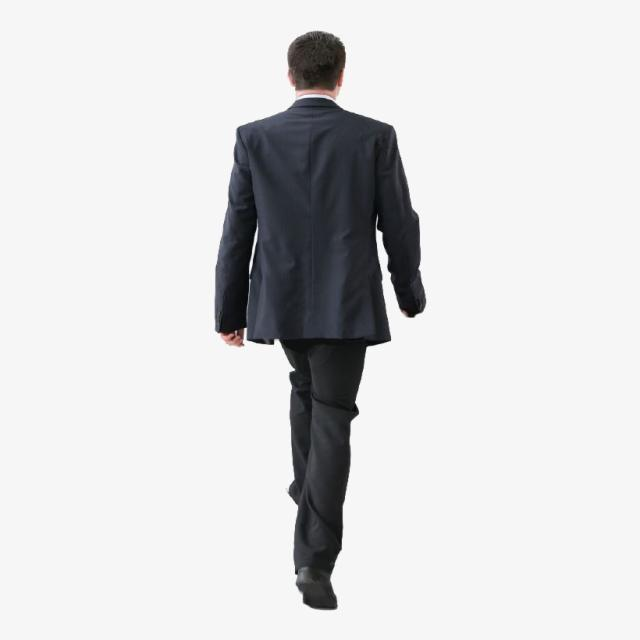adult: (213, 28, 432, 615)
